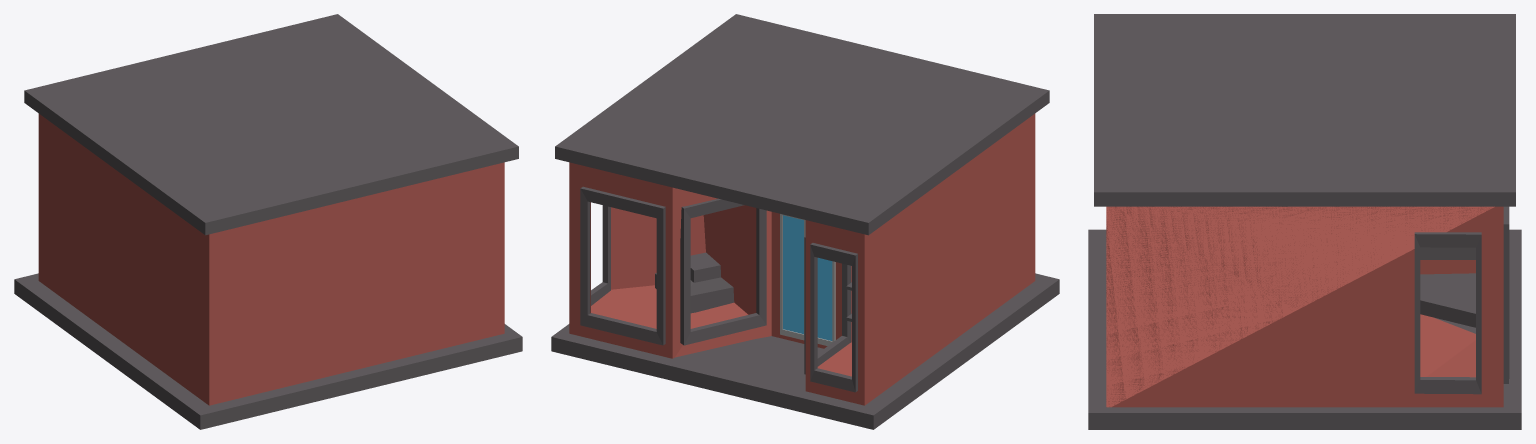
The model's file is Toy.shop_2.fbx.
3 views of the same model, side by side, from view 1: azimuth 30°, elevation 25°; view 2: azimuth 150°, elevation 25°; view 3: azimuth 270°, elevation 25° (orthographic). The views are drawn at different scales.
Visible parts, largest first — view 1: walls, roof, bottom; view 2: roof, walls, bottom, windows, Plane, Cube.001, Cube; view 3: roof, walls, bottom, windows.
Boxes of the visible parts, x1,y1,x2,y2 form: walls: (38,113,504,405); roof: (24,14,518,235); bottom: (14,273,522,429); roof: (555,14,1049,235); walls: (569,113,1035,405); bottom: (551,273,1059,429); windows: (580,186,857,392); Plane: (783,215,832,340); Cube.001: (655,252,851,321); Cube: (780,214,835,345); roof: (1094,14,1515,206); walls: (1106,206,1503,407); bottom: (1088,229,1521,429); windows: (1414,206,1509,394).
Bounding box in the file's own units: 2645 × 1595 × 2645.
